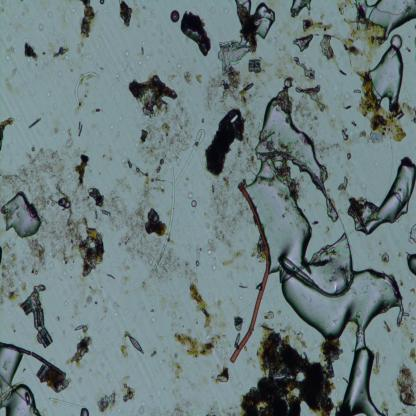Air bubble: (276, 261, 402, 416), (262, 158, 311, 270), (348, 157, 416, 233), (256, 95, 320, 160), (0, 348, 42, 416), (367, 46, 407, 114), (355, 0, 416, 35), (2, 190, 43, 239), (311, 231, 347, 282), (254, 2, 275, 40), (289, 0, 311, 16), (406, 251, 416, 277), (390, 34, 404, 50), (236, 0, 252, 12), (80, 407, 88, 416), (341, 130, 348, 140), (99, 0, 104, 5)
Background material: (257, 326, 339, 416), (357, 68, 404, 148), (204, 102, 247, 180), (338, 0, 387, 64), (203, 176, 247, 245), (212, 5, 258, 65), (128, 74, 180, 121), (22, 143, 66, 187), (79, 216, 108, 282), (233, 375, 278, 416), (105, 171, 135, 232), (0, 240, 27, 306), (204, 60, 238, 112), (141, 122, 179, 167), (182, 10, 212, 59), (175, 331, 227, 357), (297, 81, 330, 119), (189, 284, 214, 334), (169, 99, 193, 151), (75, 0, 95, 50), (395, 363, 416, 410), (62, 333, 91, 366), (400, 307, 416, 365), (241, 75, 256, 126), (168, 386, 193, 416), (218, 247, 249, 270), (318, 32, 338, 66), (298, 18, 332, 38), (49, 241, 74, 267), (165, 248, 184, 282), (48, 367, 70, 395), (288, 30, 316, 52), (74, 151, 90, 188), (28, 237, 47, 268), (53, 186, 73, 215), (289, 58, 316, 79), (96, 388, 118, 412), (0, 116, 15, 151), (67, 214, 83, 245), (215, 298, 229, 329), (268, 59, 289, 79), (88, 185, 106, 208), (0, 173, 23, 191), (119, 0, 133, 29), (23, 39, 39, 64), (34, 196, 54, 216), (31, 285, 49, 307), (319, 139, 341, 157), (399, 99, 416, 122), (169, 352, 182, 382), (120, 376, 136, 400), (292, 324, 307, 349), (135, 122, 149, 148), (211, 364, 229, 384), (119, 329, 130, 360), (184, 261, 200, 282), (166, 61, 182, 81), (204, 235, 216, 256), (375, 346, 383, 376), (121, 158, 138, 172), (134, 1, 142, 29), (182, 68, 194, 86), (83, 295, 97, 310), (137, 46, 147, 66), (206, 401, 219, 416), (136, 399, 147, 416), (65, 127, 73, 150), (119, 232, 132, 246), (27, 118, 42, 130), (60, 9, 70, 27), (233, 318, 245, 332), (6, 74, 15, 92), (75, 98, 86, 112), (380, 399, 389, 416), (337, 179, 349, 191), (160, 296, 170, 310), (72, 304, 82, 318), (77, 121, 84, 139), (90, 105, 102, 115), (383, 250, 390, 267), (264, 310, 275, 320), (31, 262, 40, 274), (163, 345, 168, 366), (224, 175, 230, 192), (337, 68, 348, 77), (102, 208, 114, 216), (36, 20, 44, 32), (80, 53, 92, 61), (52, 125, 60, 137), (193, 74, 203, 83), (122, 261, 130, 272), (105, 272, 116, 280), (202, 376, 209, 388), (94, 210, 100, 224), (22, 6, 31, 15), (238, 282, 248, 290), (65, 0, 78, 6), (121, 274, 128, 285), (171, 321, 180, 329), (190, 198, 198, 207), (149, 315, 156, 325), (211, 262, 218, 272), (0, 244, 3, 266), (103, 154, 112, 161), (115, 71, 120, 83), (96, 66, 106, 72), (115, 241, 122, 249), (67, 60, 74, 68), (124, 50, 131, 58), (95, 370, 102, 378), (151, 347, 156, 358), (6, 49, 10, 62), (342, 104, 352, 109), (212, 182, 216, 194), (124, 289, 129, 298), (102, 306, 108, 313), (22, 367, 28, 374), (113, 302, 120, 308), (84, 323, 88, 333), (63, 299, 68, 307), (0, 5, 5, 13), (142, 303, 146, 312), (113, 311, 118, 318), (51, 358, 56, 364), (172, 311, 178, 316), (142, 4, 147, 10), (58, 71, 63, 77), (116, 132, 120, 139), (411, 288, 415, 295), (159, 335, 164, 340), (91, 123, 96, 128), (110, 125, 114, 131), (79, 378, 83, 384), (46, 91, 50, 97), (72, 7, 75, 14), (99, 327, 103, 332), (110, 86, 115, 90), (178, 315, 182, 319), (151, 309, 156, 312), (202, 118, 205, 123), (111, 95, 114, 99), (120, 114, 122, 120), (182, 324, 184, 328), (152, 395, 154, 399), (70, 69, 72, 73)
Diatom: (324, 346, 342, 379), (36, 326, 52, 348), (128, 334, 144, 354), (33, 307, 47, 329), (20, 298, 33, 316), (35, 364, 48, 382), (248, 58, 262, 72), (170, 9, 180, 23), (234, 332, 241, 347), (74, 324, 84, 331)
Glass filter fibre: (134, 168, 176, 292), (3, 24, 37, 98), (174, 128, 206, 186), (40, 33, 67, 71), (76, 70, 99, 104), (58, 318, 74, 356), (235, 299, 255, 317), (49, 398, 82, 408)
Microfibre: (230, 180, 272, 363)
